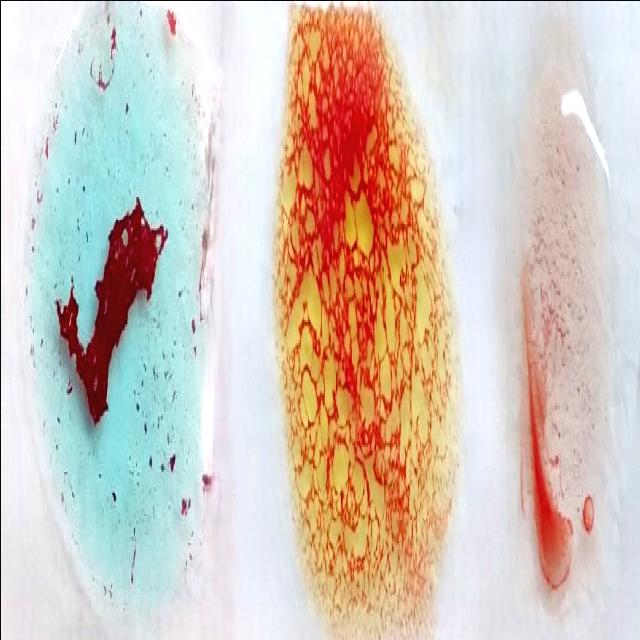A: (30, 15, 204, 607)
B: (279, 11, 432, 640)
D: (524, 71, 610, 612)
